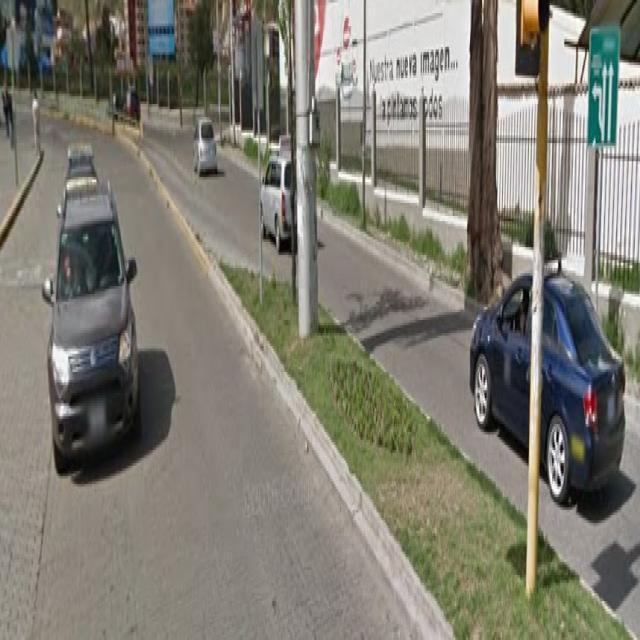cars: (474, 217, 624, 497), (46, 156, 144, 457), (264, 147, 298, 269), (194, 118, 218, 194)
